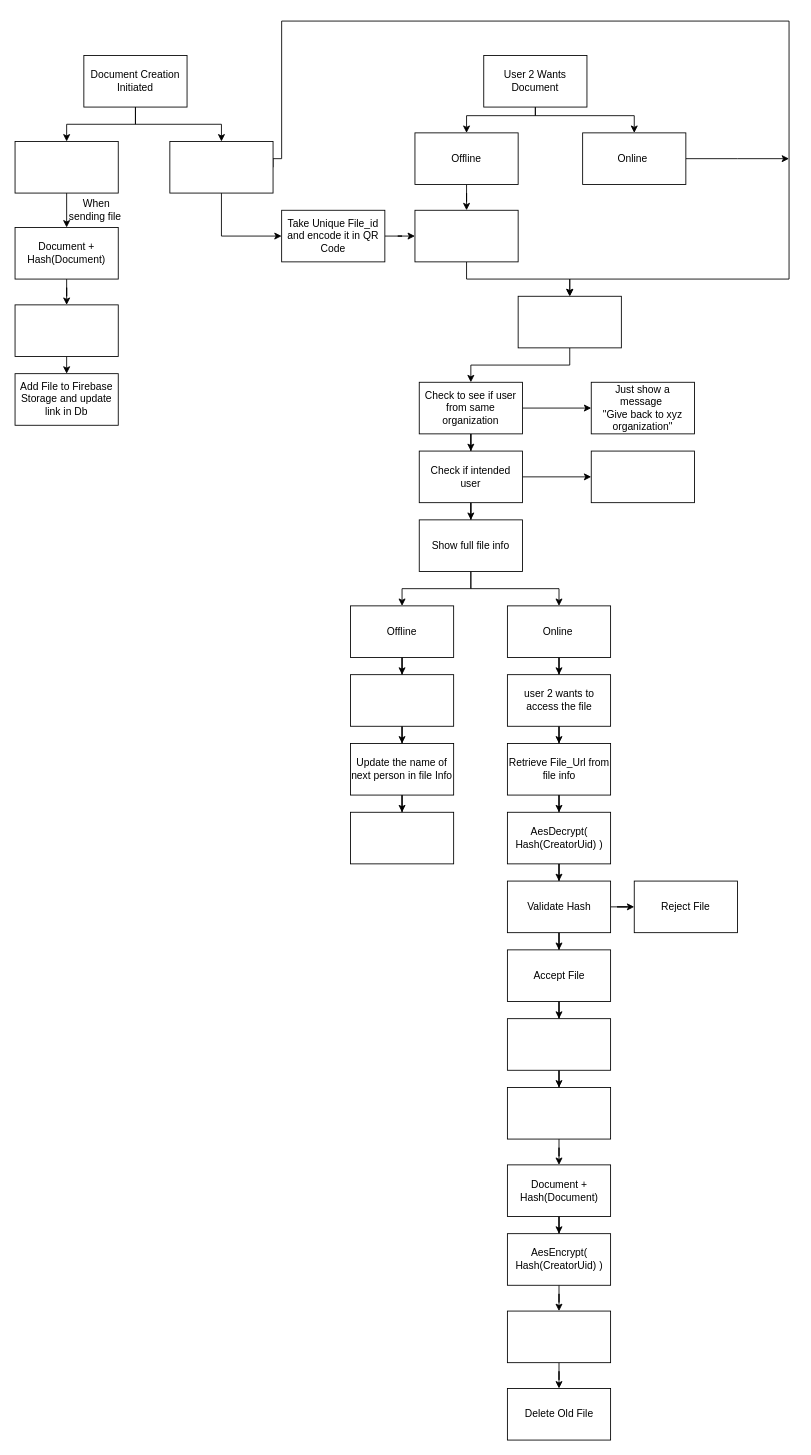
The diagram is 811 pixels wide and 1455 high, and some of its shapes have lost their labels. The shapes that lost their labels are listed below. From the top down, each one's centre as x and y in pixels, then its label:
(x=66, y=167): Document
(x=221, y=167): Create File in Db with Random Doc_ID and basic Detials
(x=466, y=235): Scan QR Code
(x=66, y=330): AesEncryption( Hash(CreatorUid) )
(x=569, y=321): Get embedded File_id
(x=642, y=476): Show basic file info
(x=402, y=700): Do the required work on the document
(x=402, y=837): Forward the document to the next person
(x=559, y=1044): Now user 2 wants to Update the file
(x=559, y=1113): Update File
(x=559, y=1336): Add in Firebase Storage and Update link in Db
